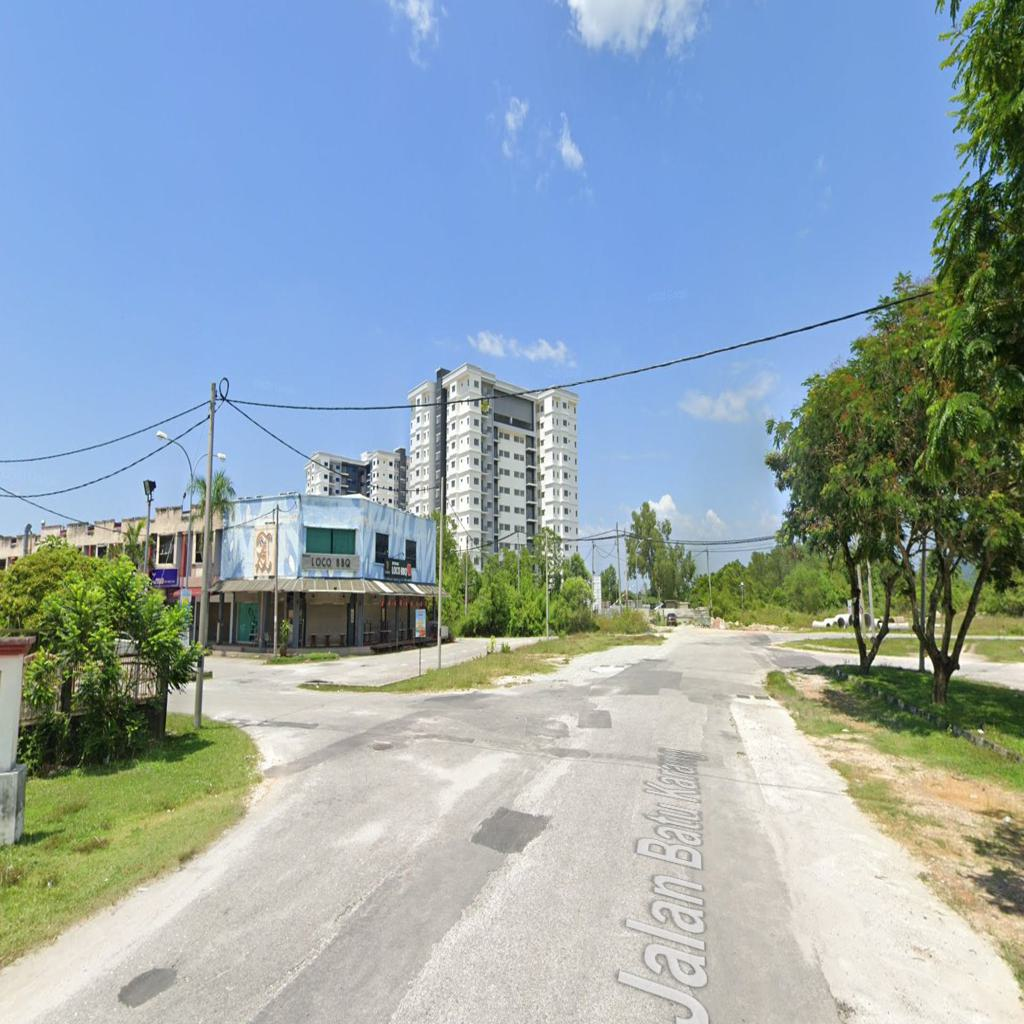Junction: (170, 643, 522, 843)
